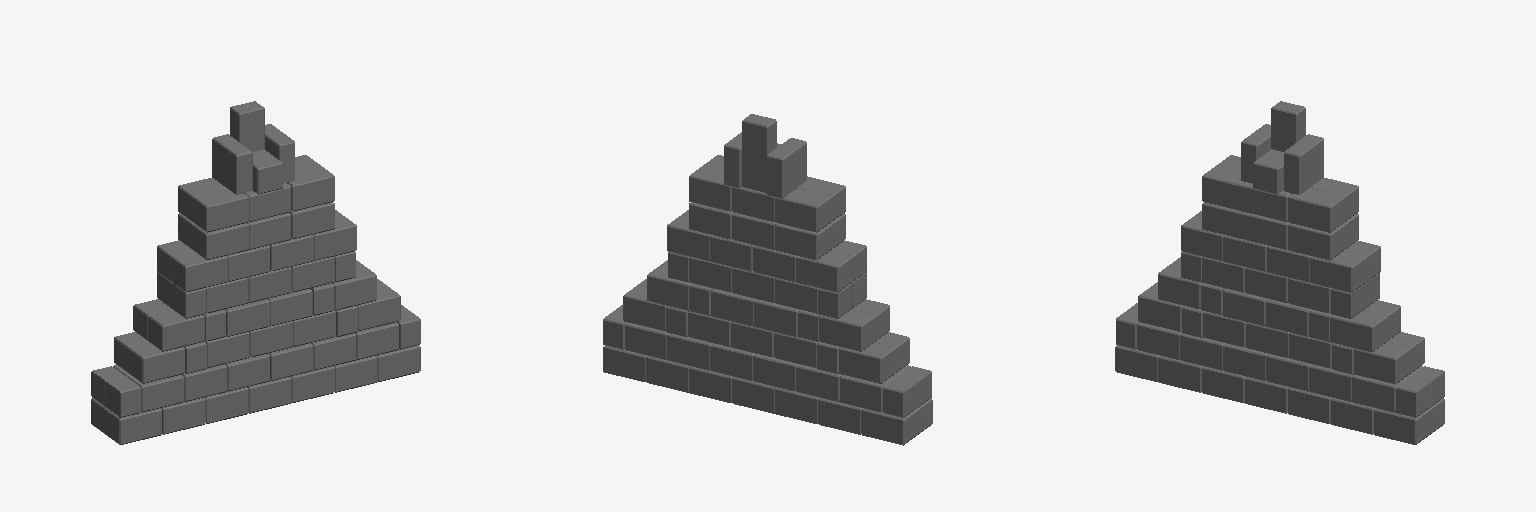
The model's file is BumbuhThroneobj.obj.
3 renders of one model, left to right at view 1: azimuth 30°, elevation 25°; view 2: azimuth 150°, elevation 25°; view 3: azimuth 330°, elevation 25°, orthographic.
Parts seen in each view (by area): view 1: polySurface7; view 2: polySurface7; view 3: polySurface7.
Part boxes in pixels (x1,y1,x2,y2): polySurface7: (91,101,420,444); polySurface7: (603,114,932,445); polySurface7: (1115,101,1444,444).
Size of the model in its own units: 1238 by 1120 by 210.